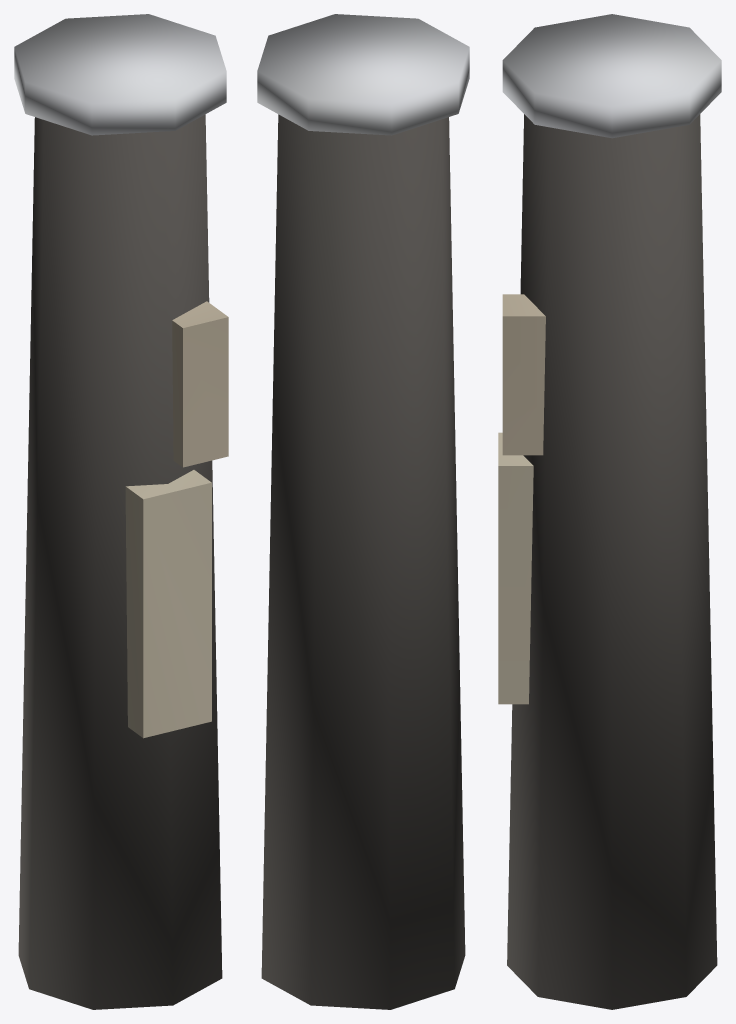
File: barked_trunk.glb
3 renders of one model, left to right at view 1: azimuth 30°, elevation 25°; view 2: azimuth 150°, elevation 25°; view 3: azimuth 270°, elevation 25°, orthographic.
Parts seen in each view (by area): view 1: barked_trunk; view 2: barked_trunk; view 3: barked_trunk.
Boxes of the visible parts, <box> form: barked_trunk: <box>14,14,228,1009</box>; barked_trunk: <box>257,14,469,1009</box>; barked_trunk: <box>498,14,721,1009</box>.
Size of the model in its own units: 0.5 by 2.28 by 0.51.
